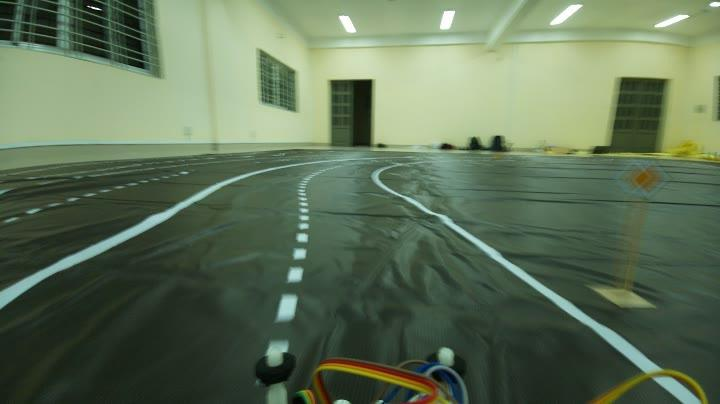priority: (624, 154, 664, 200)
